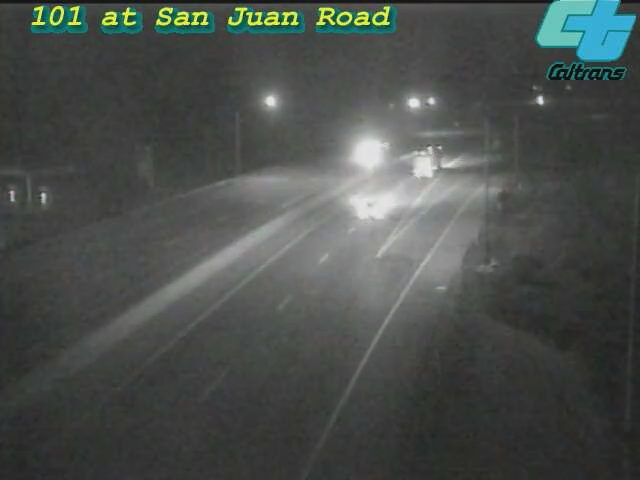vehicle: (324, 113, 404, 193), (384, 126, 464, 206), (334, 167, 414, 247)
